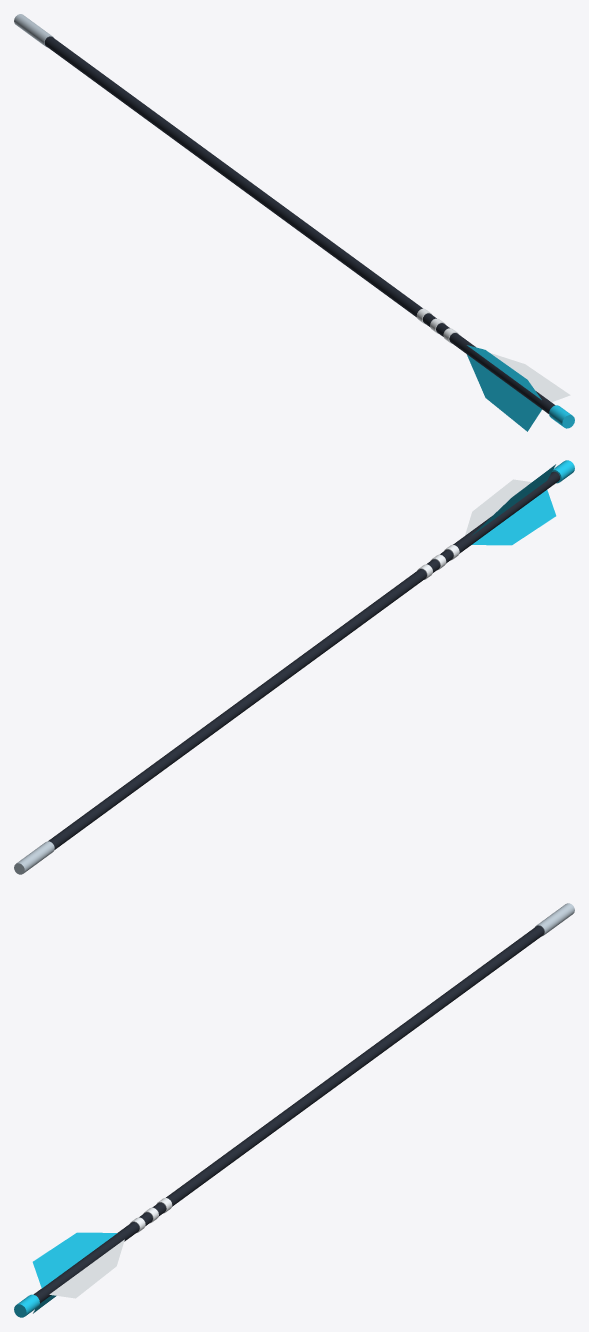
File: carbon-arrow.glb
3 renders of one model, top to bottom at view 1: azimuth 30°, elevation 25°; view 2: azimuth 150°, elevation 25°; view 3: azimuth 330°, elevation 25°, orthographic.
Visible parts, largest first — view 1: Carbon arrow shaft, Polymer vane.002, Polymer vane, Polymer vane.001; view 2: Carbon arrow shaft, Polymer vane.002, Polymer vane, Polymer vane.001, Polished arrow point; view 3: Carbon arrow shaft, Polymer vane.001, Polymer vane.
Boxes of the visible parts, x1=… form: Carbon arrow shaft: x1=44, y1=36, x2=555, y2=413; Polymer vane.002: x1=467, y1=354, x2=541, y2=431; Polymer vane: x1=490, y1=353, x2=570, y2=402; Polymer vane.001: x1=467, y1=345, x2=541, y2=399; Carbon arrow shaft: x1=48, y1=471, x2=559, y2=849; Polymer vane.002: x1=472, y1=490, x2=556, y2=545; Polymer vane: x1=465, y1=479, x2=531, y2=535; Polymer vane.001: x1=472, y1=464, x2=555, y2=535; Polished arrow point: x1=14, y1=841, x2=54, y2=874; Carbon arrow shaft: x1=33, y1=925, x2=544, y2=1303; Polymer vane.001: x1=32, y1=1232, x2=117, y2=1288; Polymer vane: x1=49, y1=1239, x2=124, y2=1298.
Size of the model in its own units: 0.0375 by 0.0433 by 0.825.
